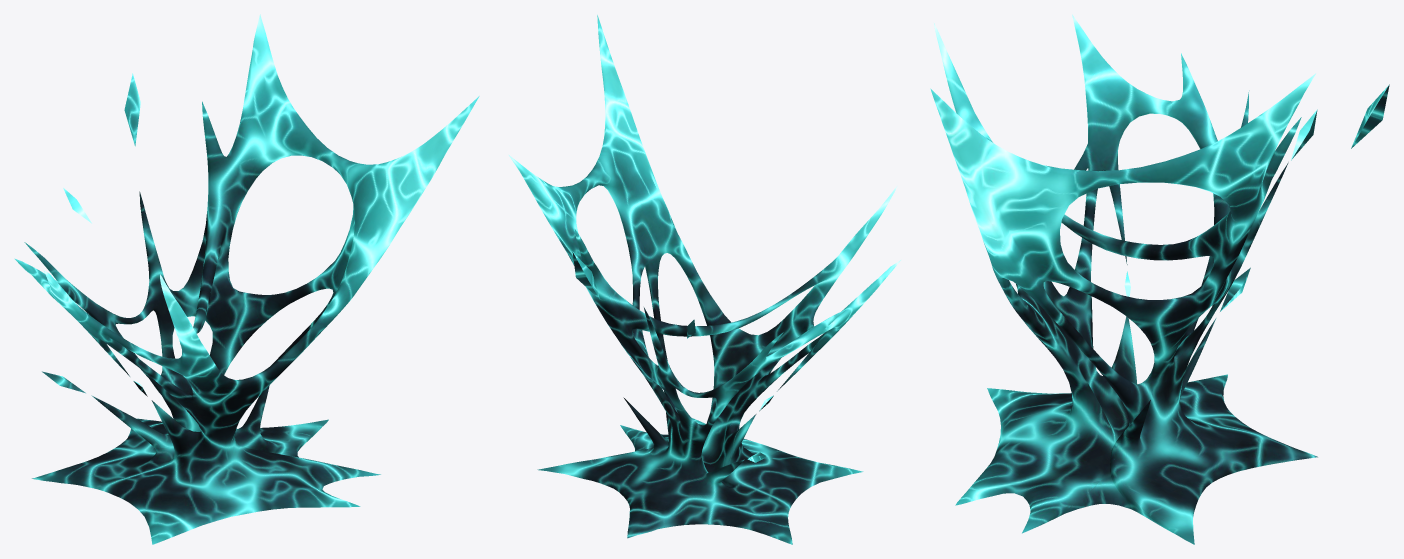
File: caos_hro_chaosconfluence_01a_soma_v36.glb
The picture shows the model from 3 angles, left to right: view 1: azimuth 30°, elevation 25°; view 2: azimuth 150°, elevation 25°; view 3: azimuth 270°, elevation 25°; orthographic projection. The views are drawn at different scales.
Visible parts, largest first — view 1: caos_hro_chaosconfluence_01a; view 2: caos_hro_chaosconfluence_01a; view 3: caos_hro_chaosconfluence_01a.
Part boxes in pixels (box(x1,y1,x2,y2)): caos_hro_chaosconfluence_01a: box(14, 14, 479, 544); caos_hro_chaosconfluence_01a: box(509, 15, 900, 544); caos_hro_chaosconfluence_01a: box(930, 14, 1389, 544).
Size of the model in its own units: 25.11 by 24.85 by 21.42.
1 material, 1 textured.
